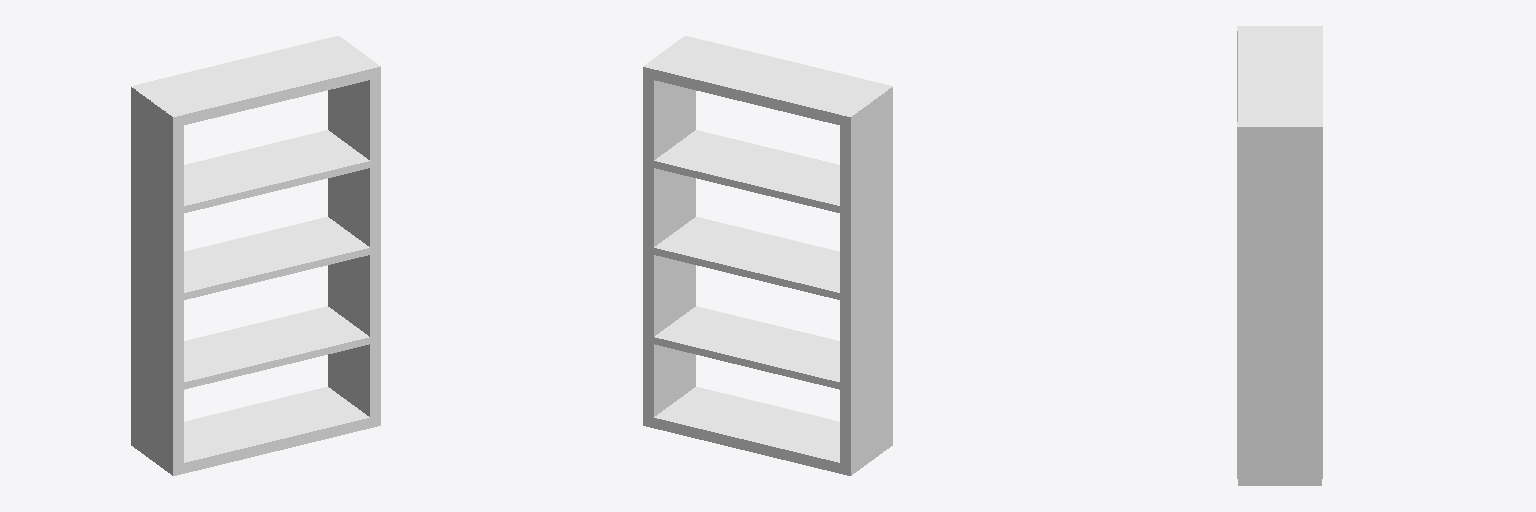
The model's file is libreria.obj.
3 views of the same model, side by side, from view 1: azimuth 30°, elevation 25°; view 2: azimuth 150°, elevation 25°; view 3: azimuth 270°, elevation 25° (orthographic).
Visible parts, largest first — view 1: libreria.2; view 2: libreria.2; view 3: libreria.2.
Part boxes in pixels (bbox=[...]): libreria.2: bbox=[131, 36, 380, 475]; libreria.2: bbox=[643, 36, 892, 475]; libreria.2: bbox=[1237, 26, 1322, 485].
Bounding box in the file's own units: 81.37 × 134 × 28.89.